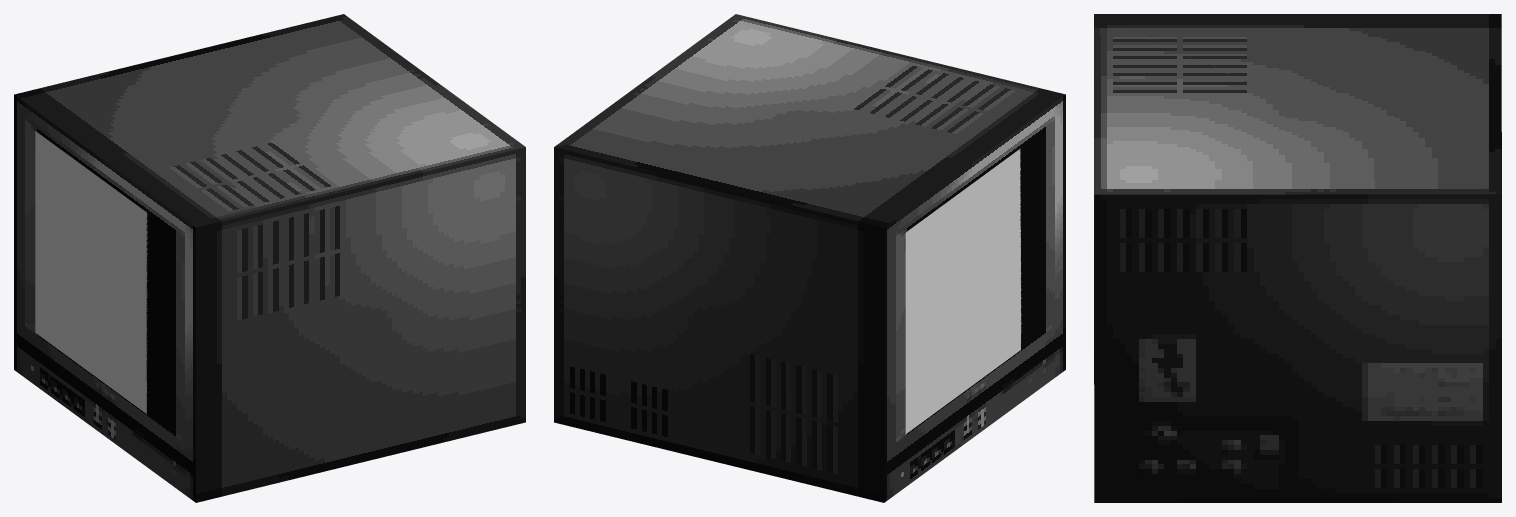
The model's file is surface2_primary_057.glb.
3 renders of one model, left to right at view 1: azimuth 30°, elevation 25°; view 2: azimuth 150°, elevation 25°; view 3: azimuth 270°, elevation 25°, orthographic. The views are drawn at different scales.
Visible parts, largest first — view 1: Object; view 2: Object; view 3: Object.
Part boxes in pixels (x1,y1,x2,y2): Object: [14, 14, 525, 502]; Object: [554, 14, 1065, 502]; Object: [1094, 14, 1501, 502].
Size of the model in its own units: 0.548 by 0.4366 by 0.5231.
Materials: 7 (7 with a texture image).
